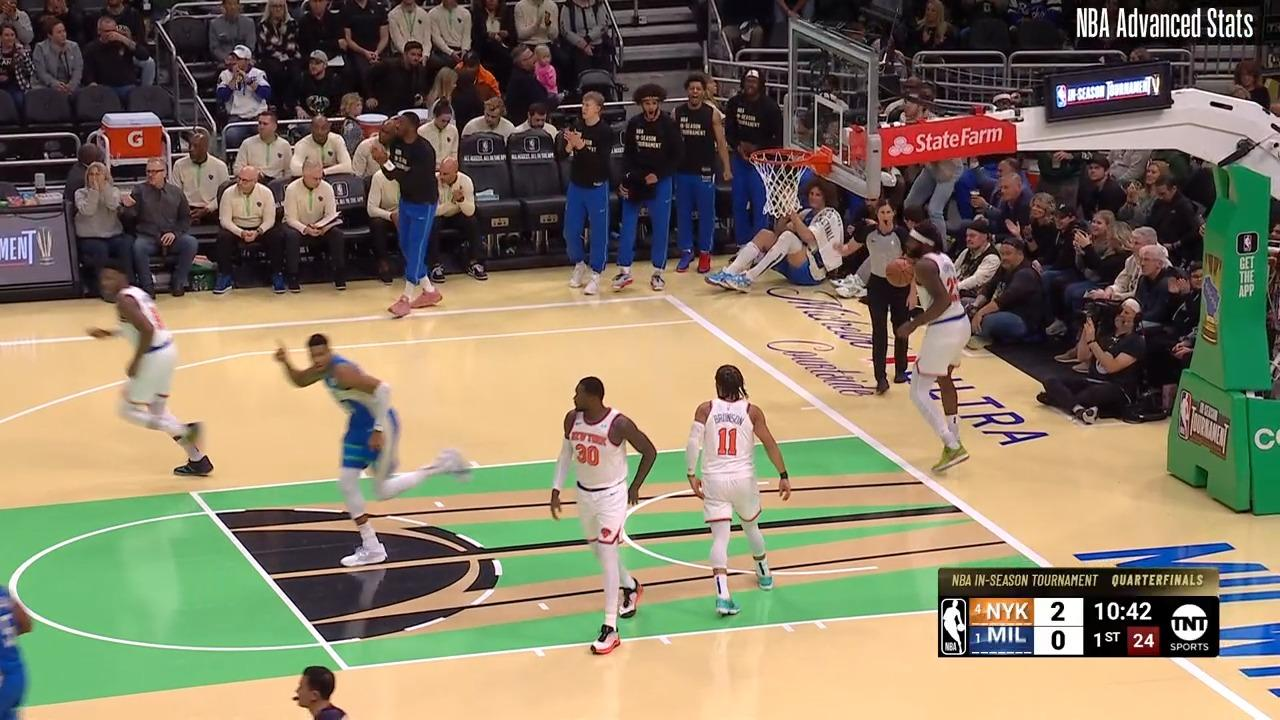Backboard: (792, 25, 867, 193)
Ball: (886, 259, 915, 286)
Basket: (754, 151, 826, 221)
Person: (270, 331, 463, 561), (69, 261, 227, 484), (670, 367, 783, 631), (552, 370, 651, 651), (906, 240, 978, 500)
Referee: (852, 199, 916, 399)
